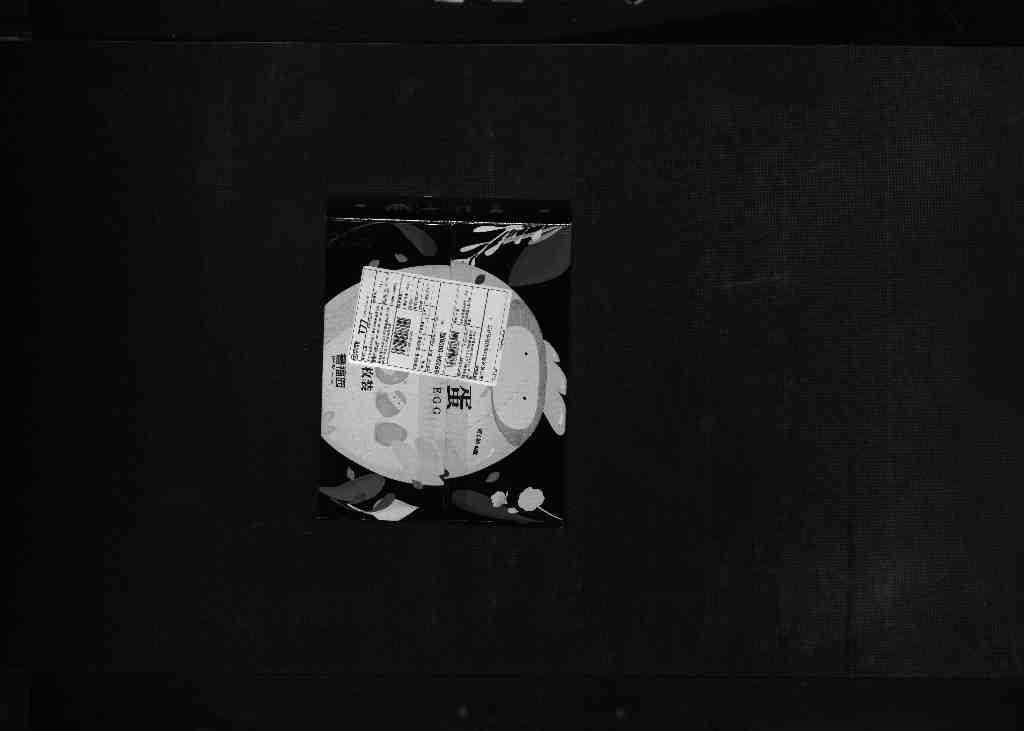box: (314, 187, 583, 547)
